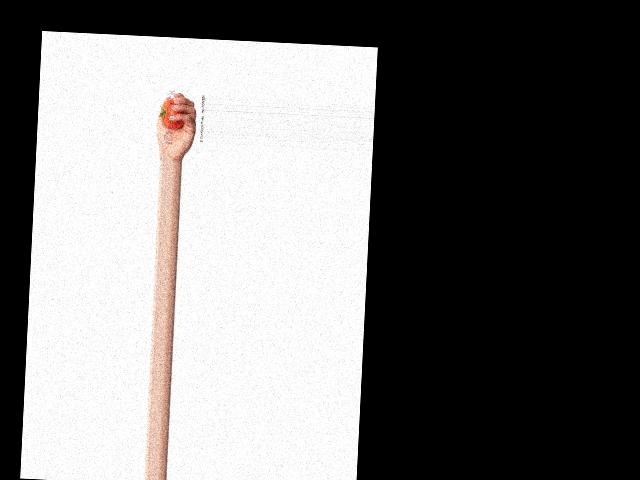tomato: (160, 97, 187, 128)
